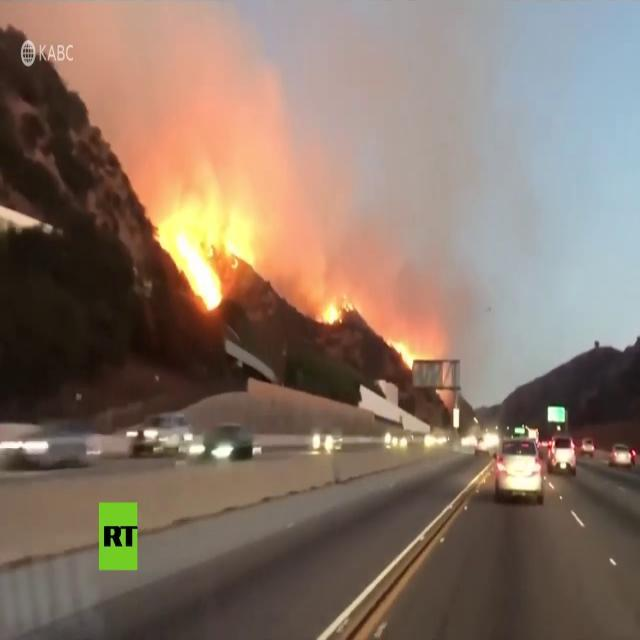Fire: (161, 191, 253, 310), (385, 334, 413, 368), (318, 300, 342, 326)
